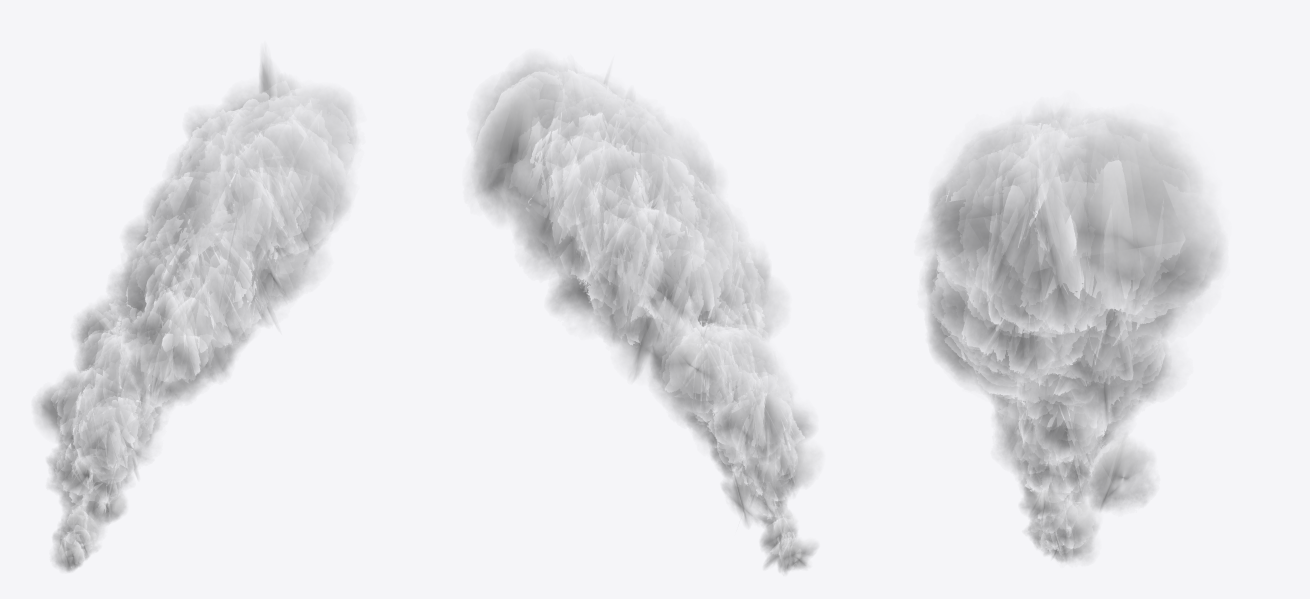
The model's file is steam_plume.glb.
3 views of the same model, side by side, from view 1: azimuth 30°, elevation 25°; view 2: azimuth 150°, elevation 25°; view 3: azimuth 270°, elevation 25° (orthographic). The views are drawn at different scales.
Size of the model in its own units: 73.5 by 97.82 by 54.57.
1 material, 1 textured.
